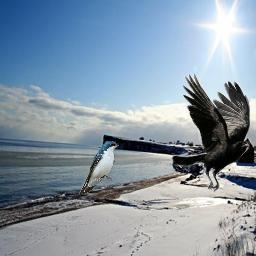Crow: (171, 73, 252, 195)
Swallow: (79, 141, 119, 195)
